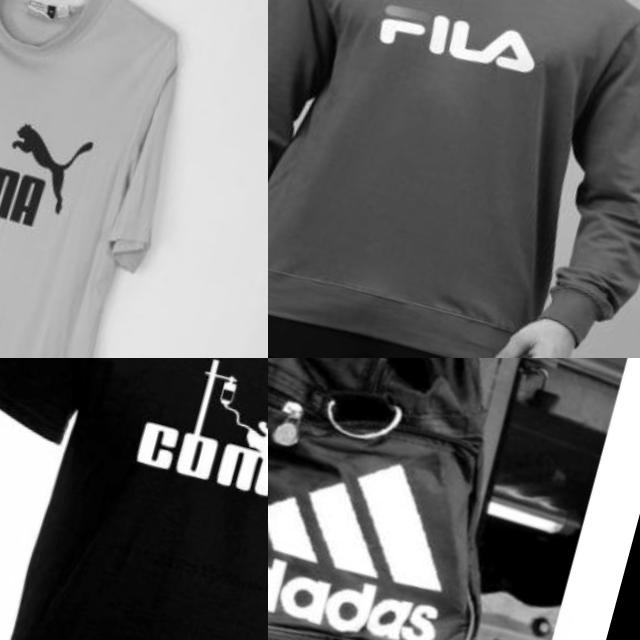ADIDAS_fake: (268, 408, 481, 640), (268, 406, 485, 607)
FILA_original: (342, 0, 563, 106)
PUMA_fake: (122, 358, 268, 545)
PUMA_original: (0, 77, 110, 259)
